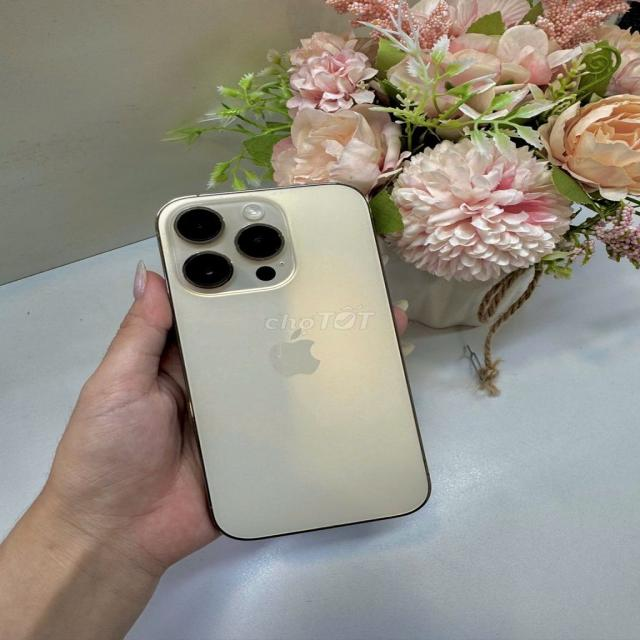gen_14: (156, 177, 442, 544)
